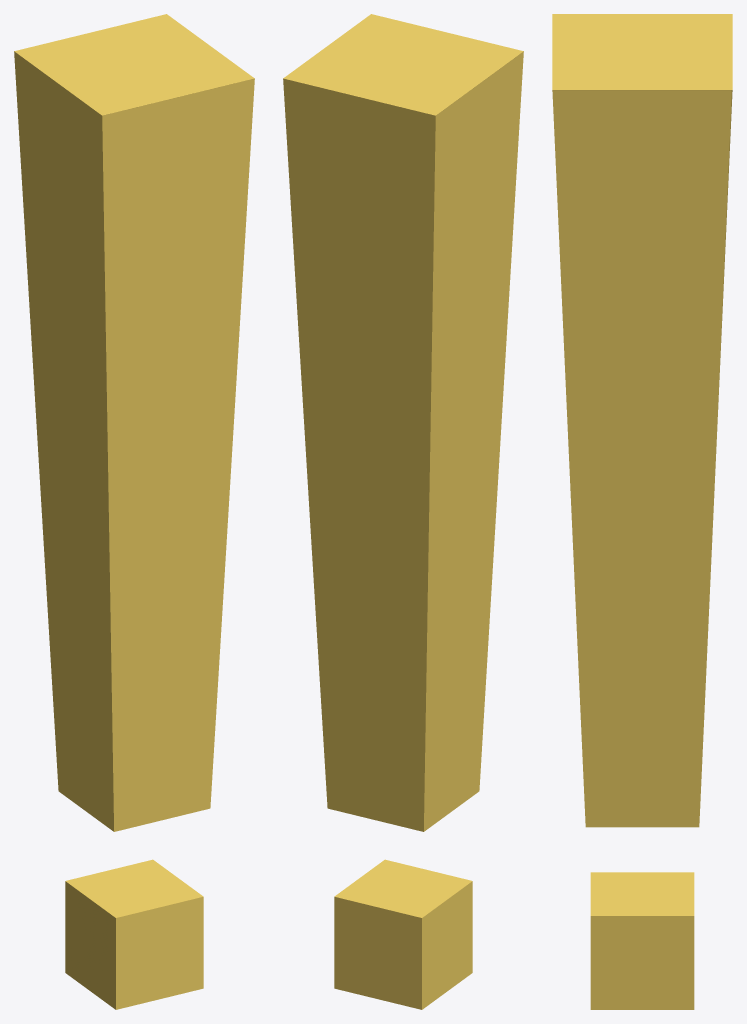
The model's file is exclamationMark.obj.
The picture shows the model from 3 angles, left to right: view 1: azimuth 30°, elevation 25°; view 2: azimuth 150°, elevation 25°; view 3: azimuth 270°, elevation 25°; orthographic projection. The views are drawn at different scales.
Visible parts, largest first — view 1: Cube.001; view 2: Cube.001; view 3: Cube.001.
Part boxes in pixels (x1=…): Cube.001: x1=14, y1=14, x2=254, y2=1009; Cube.001: x1=283, y1=14, x2=523, y2=1009; Cube.001: x1=552, y1=14, x2=732, y2=1009.
Size of the model in its own units: 2.57 by 14.74 by 2.57.
Materials: 2 (2 with a texture image).
